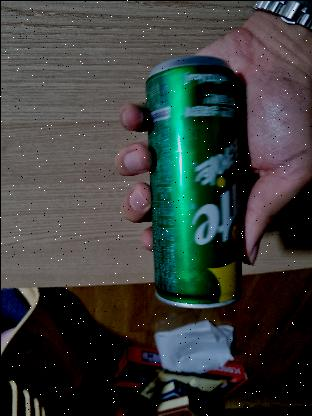Can: (143, 54, 251, 312)
